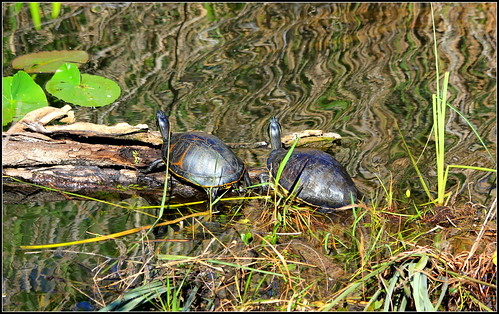animal: (144, 108, 254, 213), (257, 113, 367, 218)
river: (37, 1, 470, 216)
